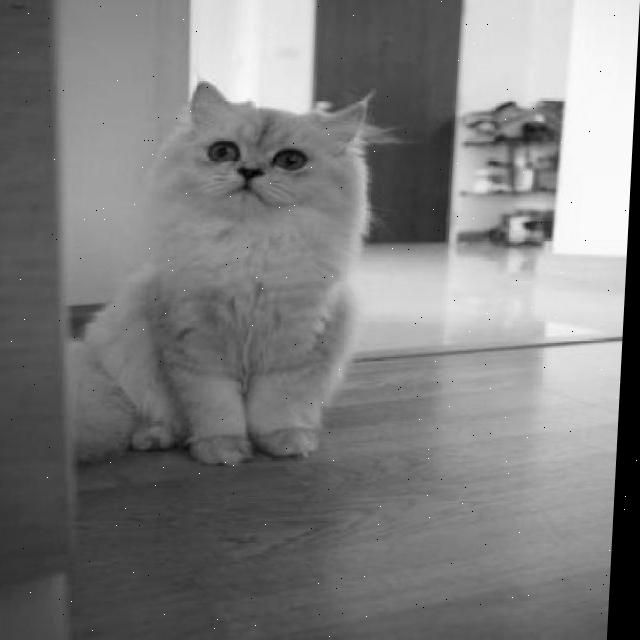Cat: (56, 80, 373, 462)
